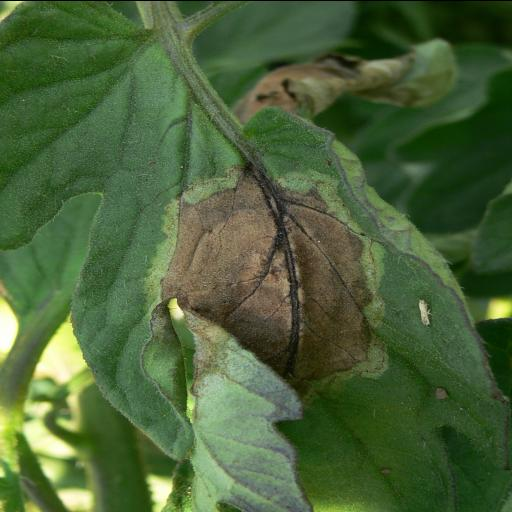disease_tomato: (19, 13, 500, 505)
